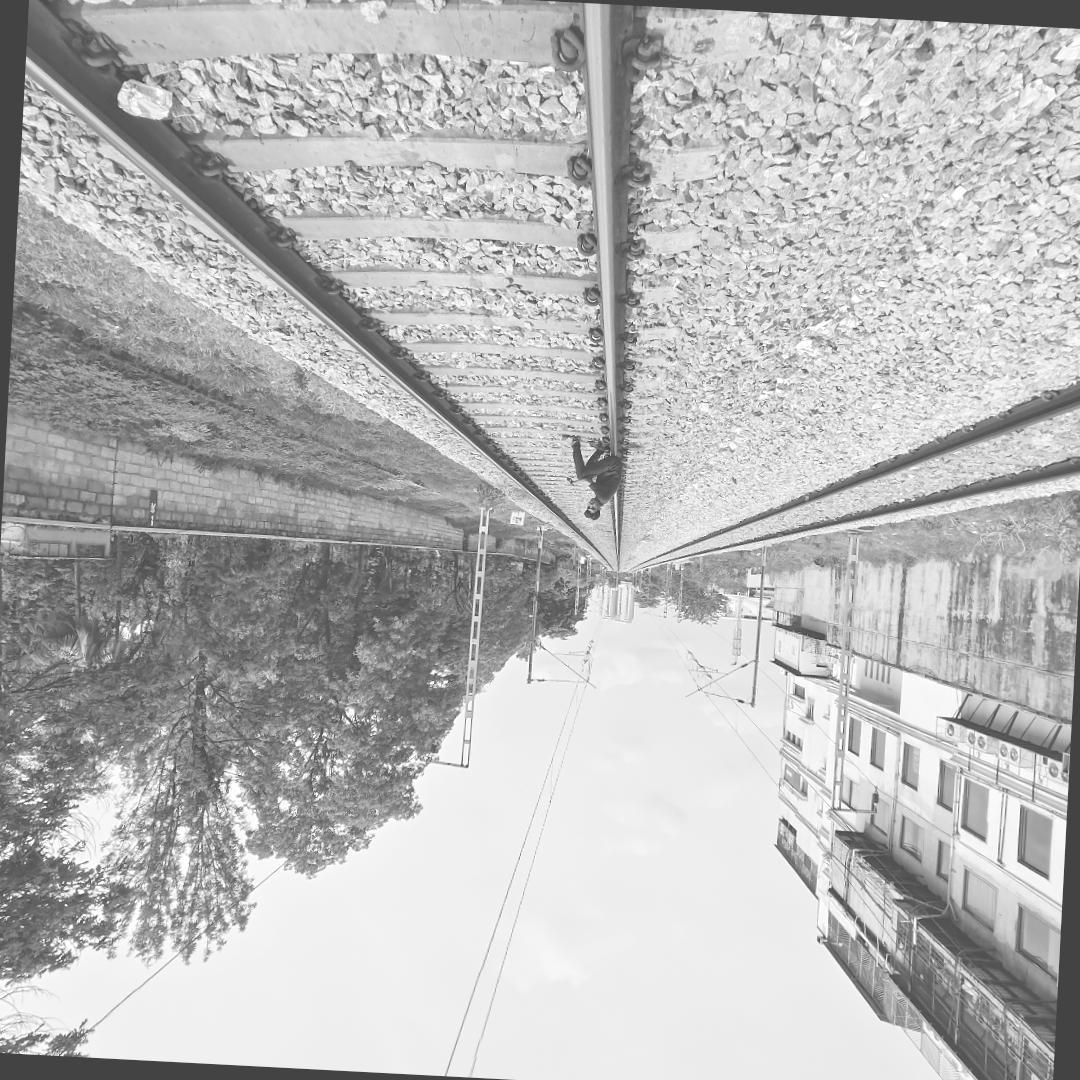sitting: (554, 426, 627, 522)
track: (23, 0, 668, 573)
